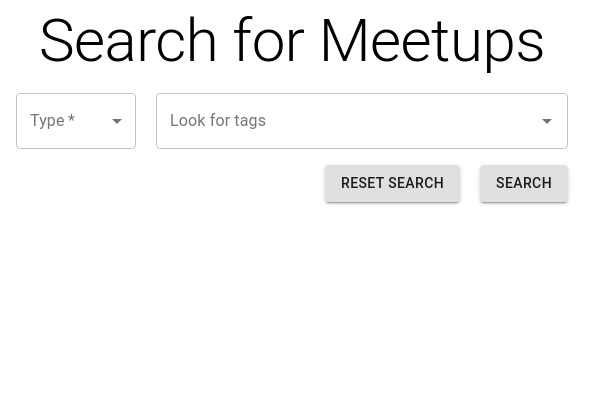
render remote meetups
Select "Remote" in the dropdown labelled "Type *" at (76, 121), box 16,93 -> 136,149
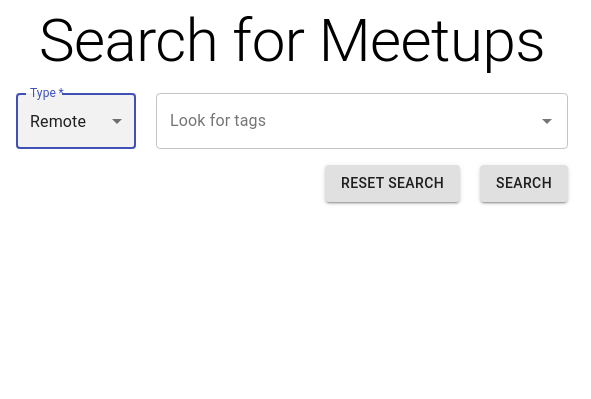
Expected: the field labelled "Look for tags" is shown, 165,102 -> 503,140
Click the button "Search" at (524, 183), box 480,165 -> 568,202
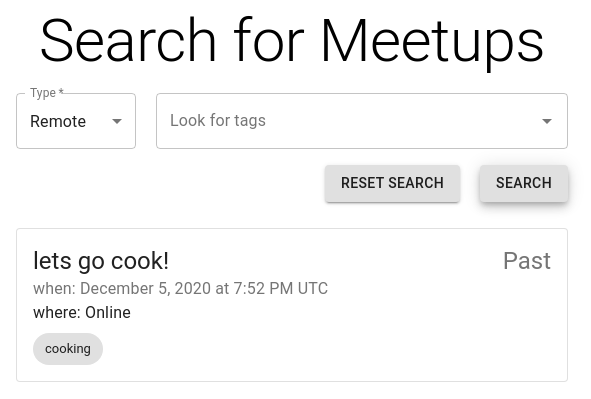
Expected: the heading "lets go cook!" is shown, 33,244 -> 169,276
